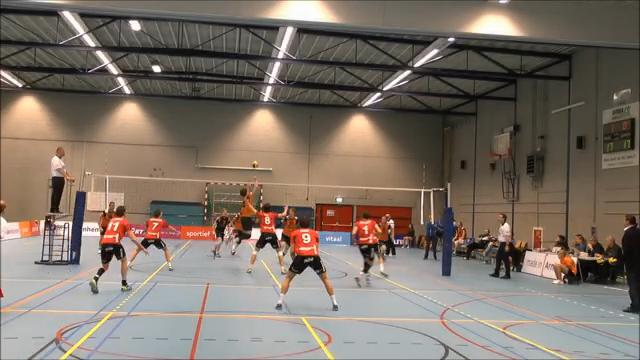alzata: (225, 168, 259, 258)
